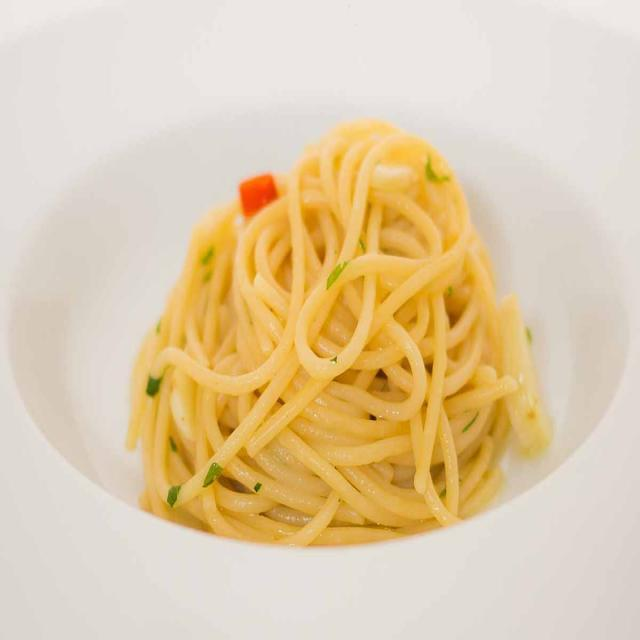Oil pasta: (133, 92, 564, 606)
